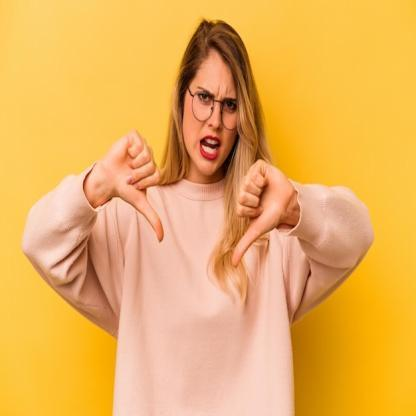thumb_down: (101, 126, 166, 244), (231, 156, 290, 268)
